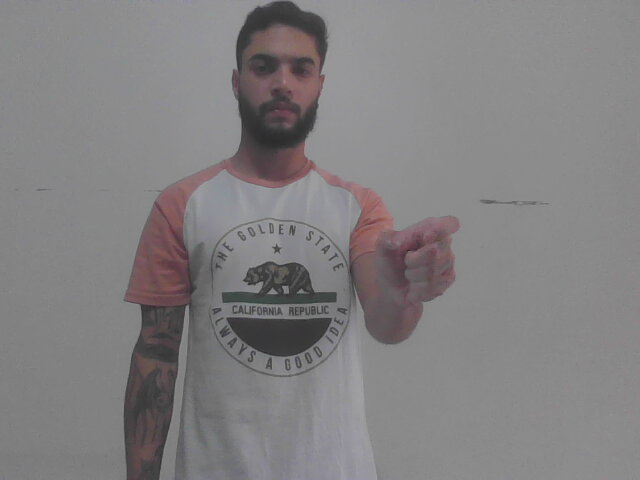x: (370, 211, 465, 318)
